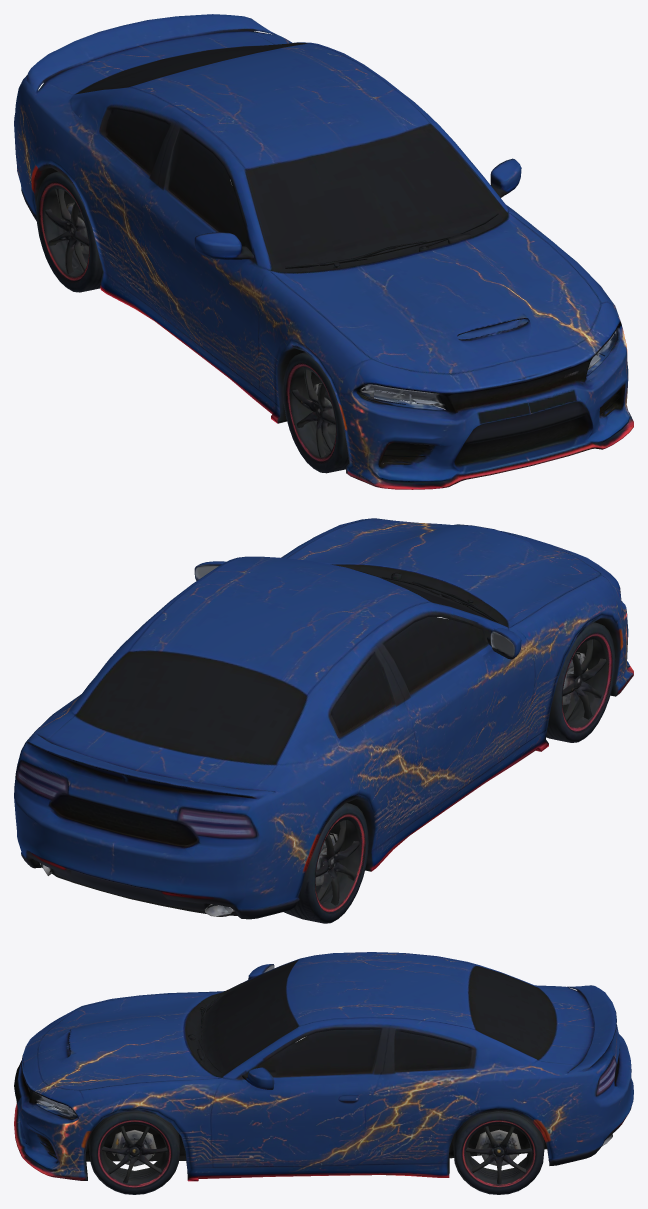
The model's file is charger2.glb.
The picture shows the model from 3 angles, top to bottom: view 1: azimuth 30°, elevation 25°; view 2: azimuth 150°, elevation 25°; view 3: azimuth 270°, elevation 25°; orthographic projection. The views are drawn at different scales.
Parts seen in each view (by area): view 1: tripo_88aab526_1eff_4cd8_95bc_e204095efb1e; view 2: tripo_88aab526_1eff_4cd8_95bc_e204095efb1e; view 3: tripo_88aab526_1eff_4cd8_95bc_e204095efb1e.
Boxes of the visible parts, box(x1,y1,x2,y2) form: tripo_88aab526_1eff_4cd8_95bc_e204095efb1e: box(14, 14, 633, 489); tripo_88aab526_1eff_4cd8_95bc_e204095efb1e: box(14, 518, 633, 923); tripo_88aab526_1eff_4cd8_95bc_e204095efb1e: box(14, 952, 633, 1194).
Bounding box in the file's own units: 0.4409 × 0.2945 × 0.9995.
Materials: 5 (5 with a texture image).
